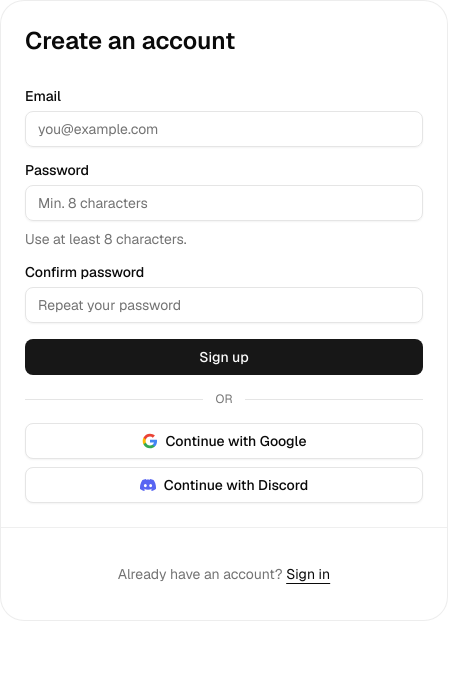
it: SignUpPage › submits sign-up form and shows server errors
Type "owner@example.com" into the field labelled "Email" at point(224, 129), box top-left (25, 111), bottom-right (423, 147)
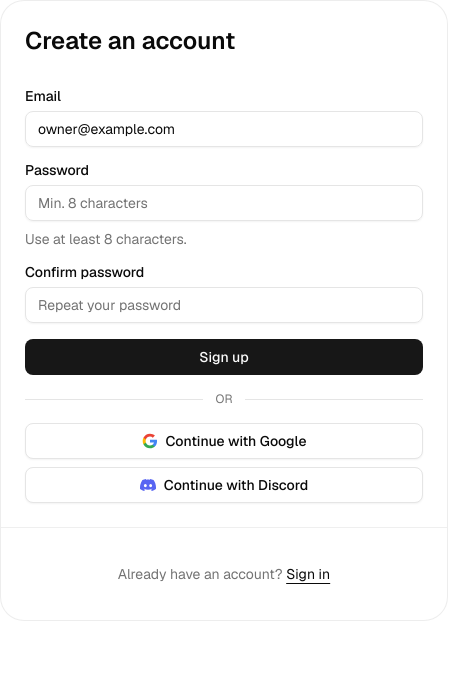
Type "password123" into the password field labelled "Password" at point(224, 203), box top-left (25, 185), bottom-right (423, 221)
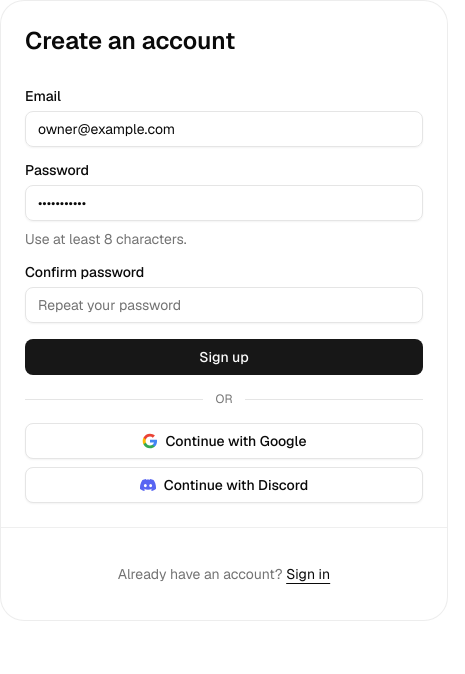
Type "password123" into the password field labelled "Confirm password" at point(224, 305), box top-left (25, 287), bottom-right (423, 323)
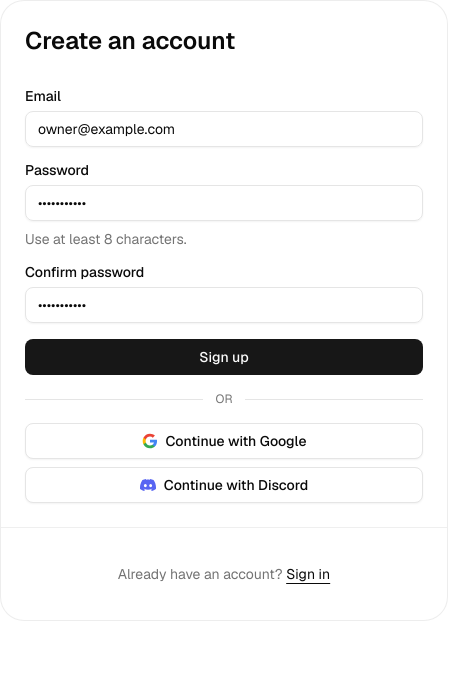
Click the button "Sign up" at point(224, 357), box top-left (25, 339), bottom-right (423, 375)
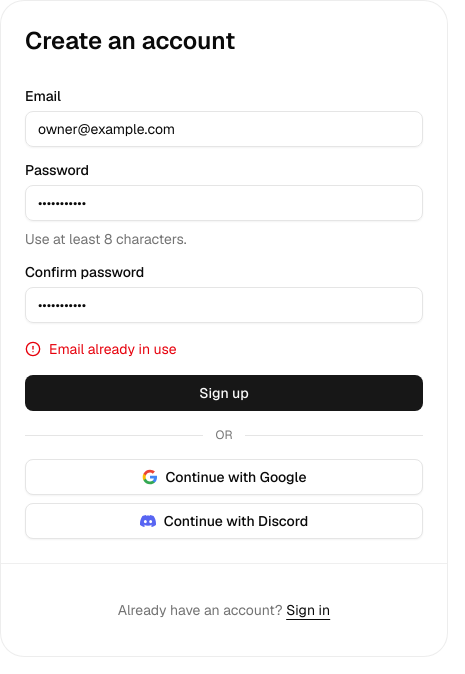
Expected: the text "Email already in use" is shown, top-left (49, 339), bottom-right (176, 359)
